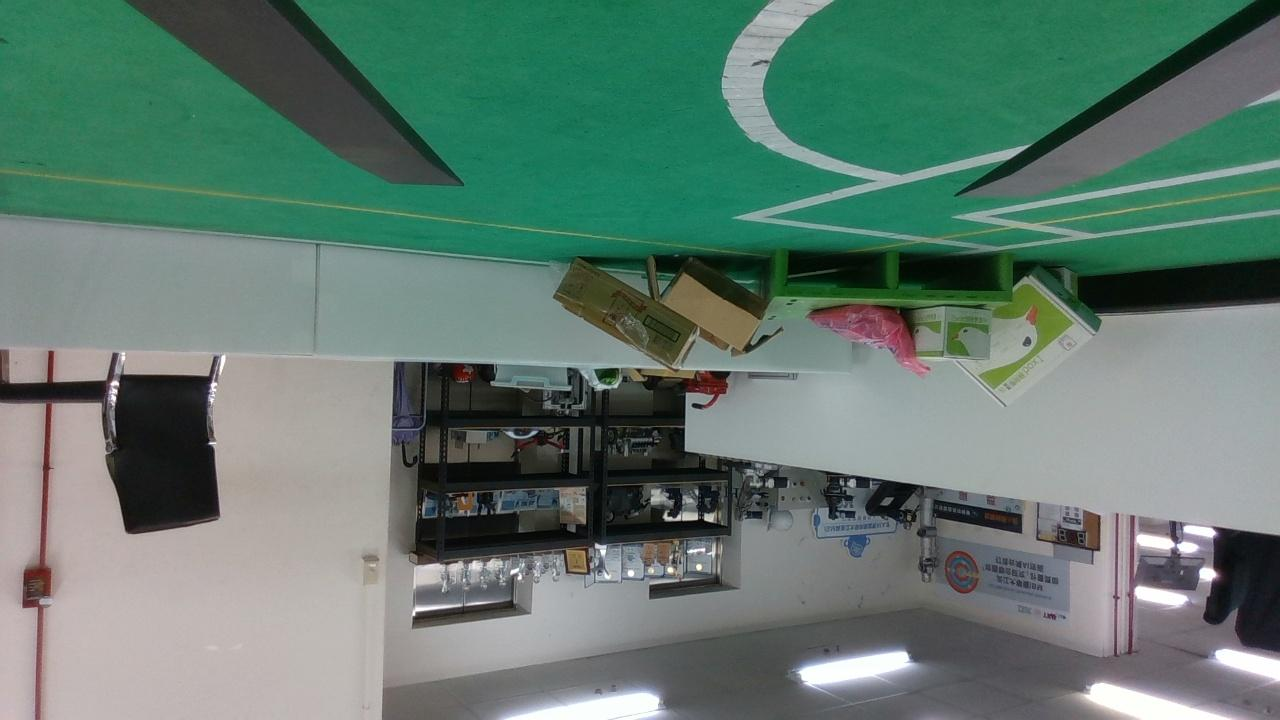Pallet: (772, 248, 1012, 304)
